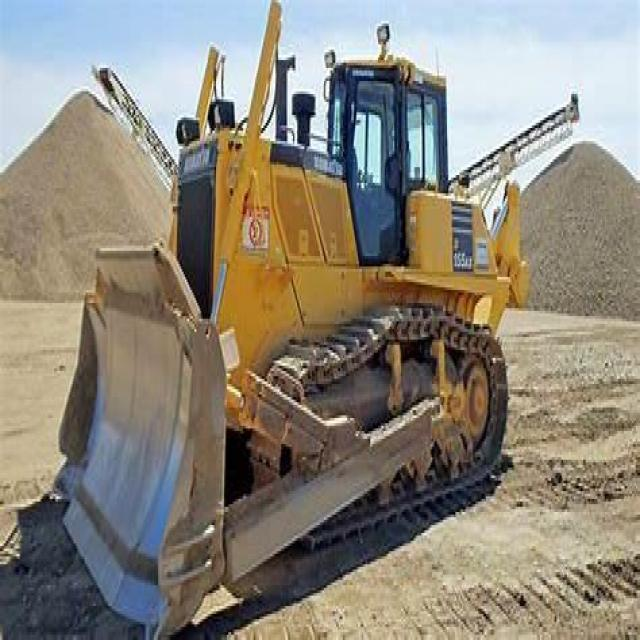Bulldozer: (37, 21, 534, 609)
